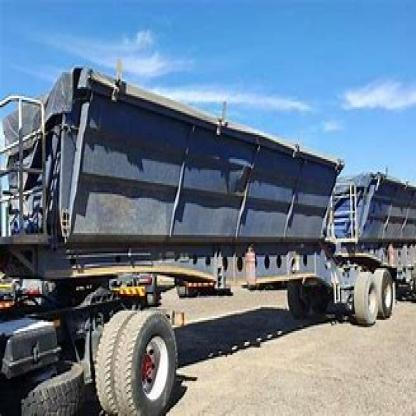dump_truck: (0, 61, 412, 410)
